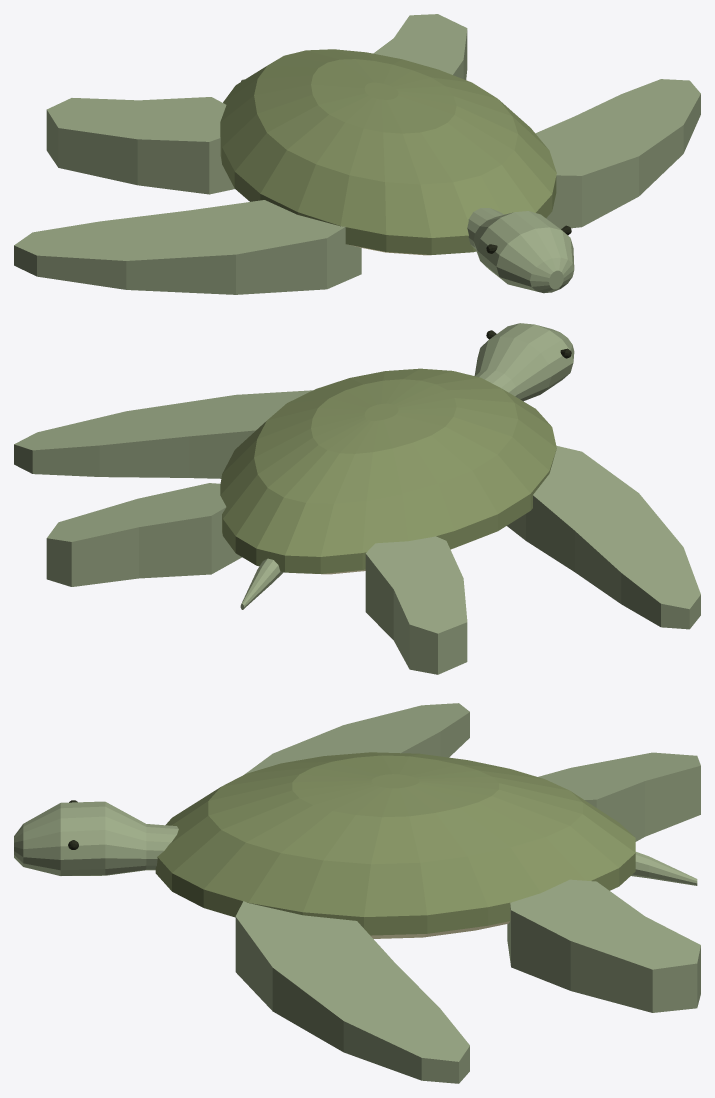
The picture shows the model from 3 angles, top to bottom: view 1: azimuth 30°, elevation 25°; view 2: azimuth 150°, elevation 25°; view 3: azimuth 270°, elevation 25°; orthographic projection. The views are drawn at different scales.
Visible parts, largest first — view 1: WholeLowElongatedCarapaceRimAndBelly, WholeSweptForeFlipper0, WholeSweptForeFlipper1, WholeSweptHindFlipper0, WholeShortNeckAndBluntForwardHead, WholeSweptHindFlipper1; view 2: WholeLowElongatedCarapaceRimAndBelly, WholeSweptForeFlipper0, WholeSweptForeFlipper1, WholeSweptHindFlipper1, WholeSweptHindFlipper0, WholeShortNeckAndBluntForwardHead, WholeShortTaperedRearTail; view 3: WholeLowElongatedCarapaceRimAndBelly, WholeSweptForeFlipper1, WholeSweptHindFlipper1, WholeShortNeckAndBluntForwardHead, WholeSweptHindFlipper0, WholeSweptForeFlipper0, WholeShortTaperedRearTail.
Part boxes in pixels (x1=…): WholeLowElongatedCarapaceRimAndBelly: x1=220, y1=49, x2=556, y2=255; WholeSweptForeFlipper0: x1=14, y1=200, x2=361, y2=294; WholeSweptForeFlipper1: x1=535, y1=79, x2=700, y2=229; WholeSweptHindFlipper0: x1=46, y1=97, x2=234, y2=194; WholeShortNeckAndBluntForwardHead: x1=467, y1=208, x2=574, y2=293; WholeSweptHindFlipper1: x1=373, y1=14, x2=467, y2=79; WholeLowElongatedCarapaceRimAndBelly: x1=220, y1=368, x2=556, y2=574; WholeSweptForeFlipper0: x1=507, y1=445, x2=700, y2=629; WholeSweptForeFlipper1: x1=14, y1=390, x2=312, y2=478; WholeSweptHindFlipper1: x1=46, y1=483, x2=241, y2=586; WholeSweptHindFlipper0: x1=365, y1=536, x2=467, y2=674; WholeShortNeckAndBluntForwardHead: x1=474, y1=323, x2=574, y2=401; WholeShortTaperedRearTail: x1=240, y1=558, x2=283, y2=609; WholeLowElongatedCarapaceRimAndBelly: x1=155, y1=752, x2=635, y2=938; WholeSweptForeFlipper1: x1=235, y1=901, x2=469, y2=1083; WholeSweptHindFlipper1: x1=507, y1=879, x2=700, y2=1012; WholeShortNeckAndBluntForwardHead: x1=14, y1=801, x2=178, y2=875; WholeSweptHindFlipper0: x1=538, y1=752, x2=700, y2=841; WholeSweptForeFlipper0: x1=245, y1=703, x2=469, y2=773; WholeShortTaperedRearTail: x1=631, y1=852, x2=697, y2=885.
Size of the model in its own units: 2.28 by 0.365 by 1.85.
